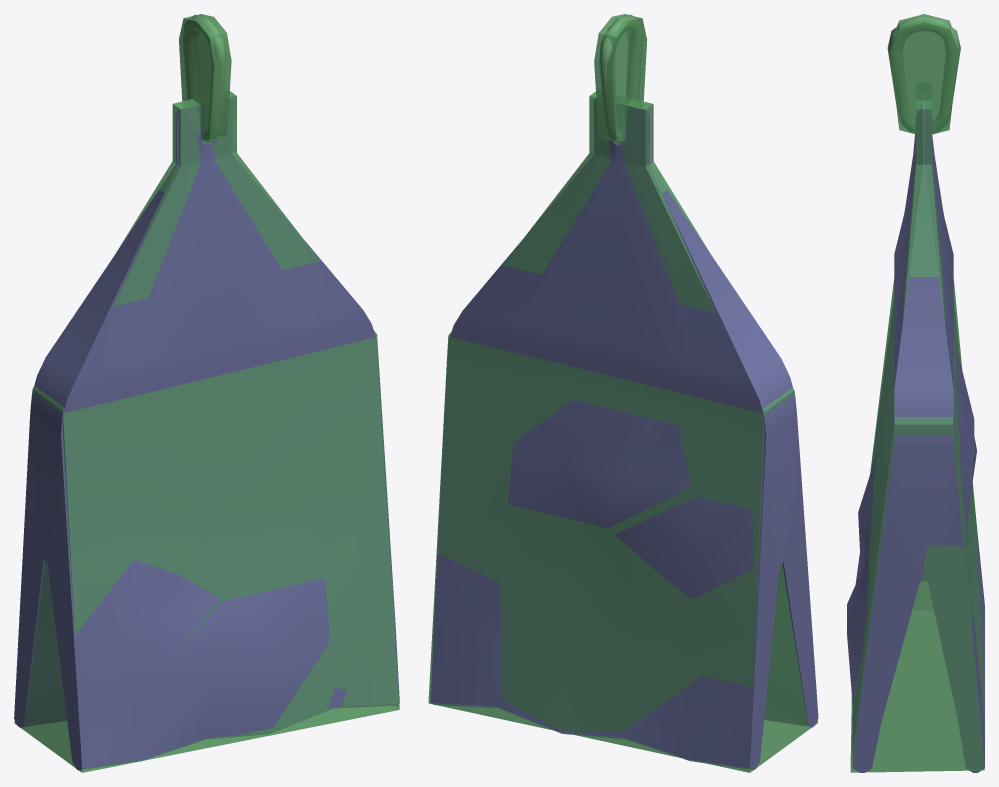
File: TripodBag_01_Mesh.fbx
The picture shows the model from 3 angles, left to right: view 1: azimuth 30°, elevation 25°; view 2: azimuth 150°, elevation 25°; view 3: azimuth 270°, elevation 25°; orthographic projection. The views are drawn at different scales.
Visible parts, largest first — view 1: Tripod_Bag_01_LOD0, Tripod_Bag_01_col; view 2: Tripod_Bag_01_LOD0, Tripod_Bag_01_col; view 3: Tripod_Bag_01_LOD0, Tripod_Bag_01_col.
Boxes of the visible parts, bbox=[...] form: Tripod_Bag_01_LOD0: bbox=[14, 14, 399, 770]; Tripod_Bag_01_col: bbox=[14, 14, 399, 772]; Tripod_Bag_01_LOD0: bbox=[430, 14, 818, 770]; Tripod_Bag_01_col: bbox=[428, 14, 817, 772]; Tripod_Bag_01_LOD0: bbox=[847, 16, 984, 772]; Tripod_Bag_01_col: bbox=[850, 14, 984, 772].
Size of what is drawn, in the model's own units: 0.1781 by 0.3737 by 0.0685.
